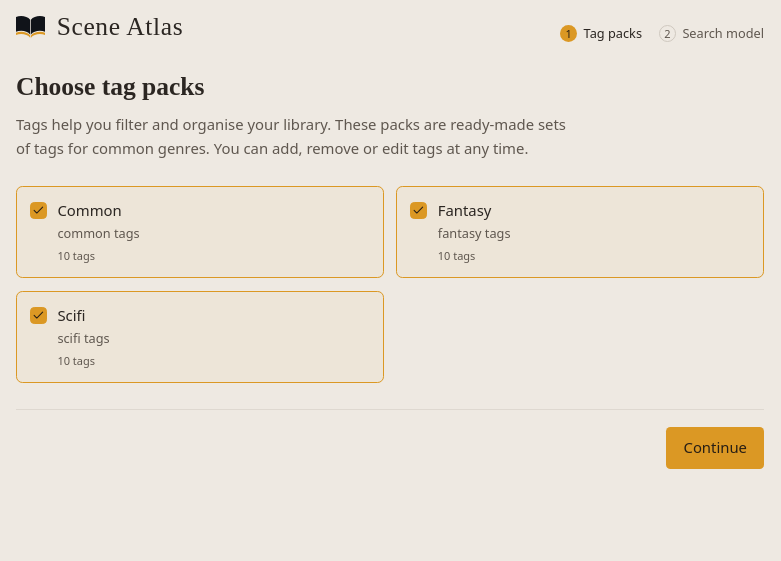
Test case: TagPackStep › stays on the step with an explanation when saving fails
Click the button "Continue" at (715, 448), box [666,427,764,469]
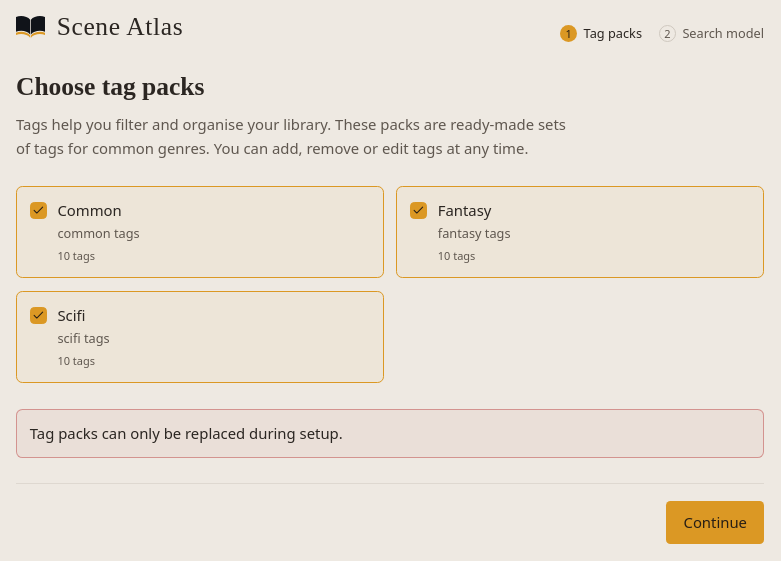
Check: the button "Continue" is enabled, box [666,501,764,544]
Check: the message shows "only be replaced during setup", box [30,422,343,442]
